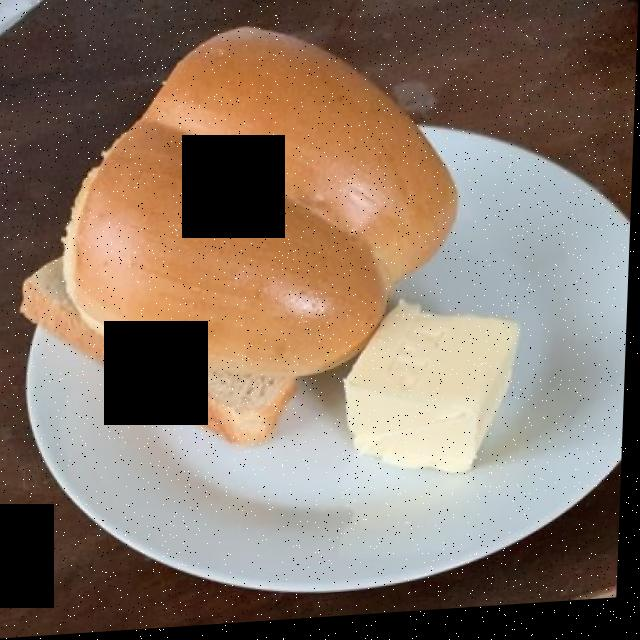bread-white: (23, 22, 473, 445)
butter: (353, 311, 520, 478)
